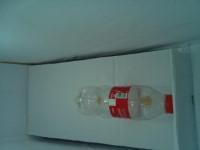bottle: (78, 87, 174, 118)
